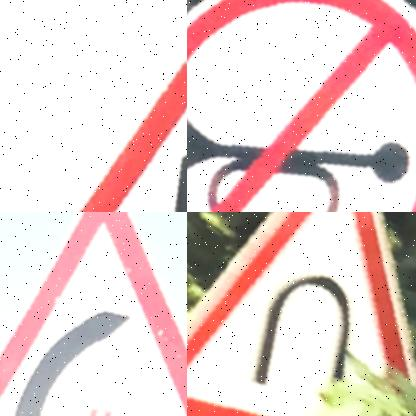Cross Roads: (71, 49, 187, 212)
No Horns: (187, 0, 416, 212)
U-Turn: (187, 212, 416, 416)
